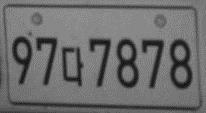7: (141, 38, 165, 89), (88, 37, 111, 87), (35, 36, 57, 85)
8: (169, 37, 193, 88), (115, 38, 139, 87)
9: (11, 35, 32, 85)
다: (61, 46, 84, 87)
